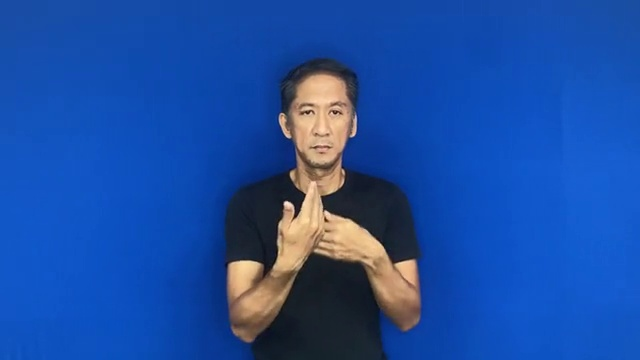bread: (275, 172, 371, 282)
